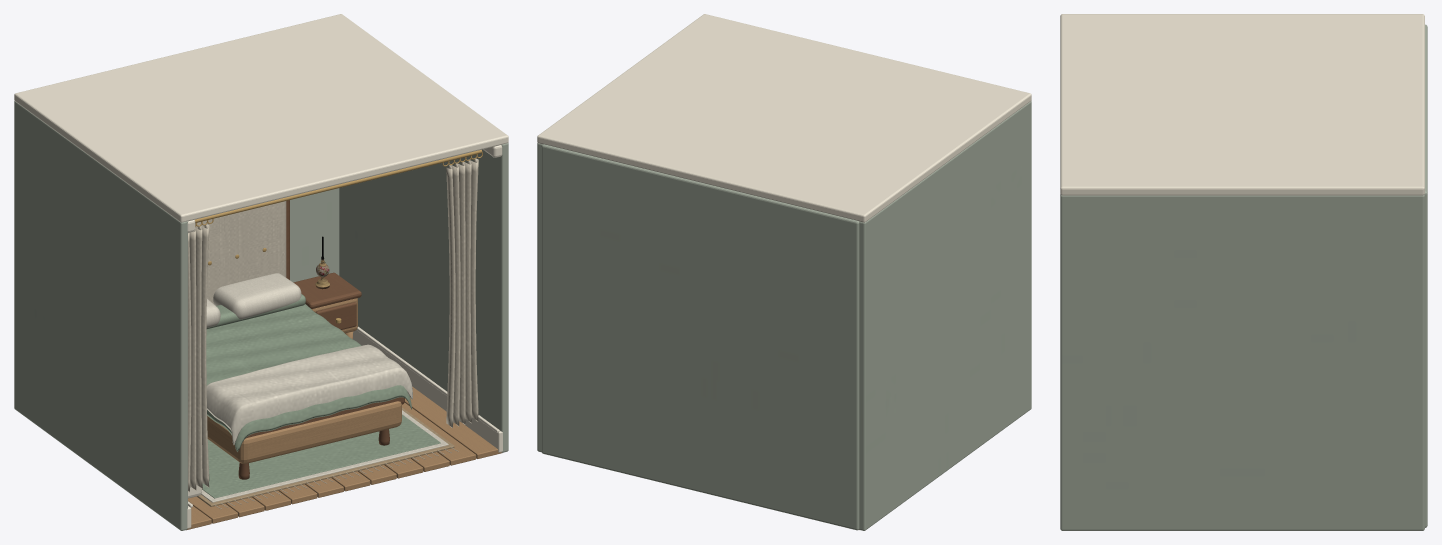
File: bedroom.glb
The picture shows the model from 3 angles, left to right: view 1: azimuth 30°, elevation 25°; view 2: azimuth 150°, elevation 25°; view 3: azimuth 270°, elevation 25°; orthographic projection. The views are drawn at different scales.
Visible parts, largest first — view 1: bedroom__Bedroom wall, bedroom__Painted cream, bedroom__Linen, bedroom__Sage textile, bedroom__Ivory textile, bedroom__Oak joinery, bedroom__Walnut, bedroom__Muted brass, bedroom__Rug braid; view 2: bedroom__Bedroom wall, bedroom__Painted cream; view 3: bedroom__Bedroom wall, bedroom__Painted cream.
Boxes of the visible parts, x1,y1,x2,y2 form: bedroom__Bedroom wall: (14,101,508,530); bedroom__Painted cream: (14,14,508,528); bedroom__Linen: (188,158,478,509); bedroom__Sage textile: (202,294,440,498); bedroom__Ivory textile: (201,273,448,502); bedroom__Oak joinery: (186,298,502,530); bedroom__Walnut: (238,200,404,479); bedroom__Muted brass: (195,150,482,323); bedroom__Rug braid: (197,407,454,506); bedroom__Bedroom wall: (537,101,1031,530); bedroom__Painted cream: (537,14,1031,222); bedroom__Bedroom wall: (1060,24,1427,530); bedroom__Painted cream: (1060,14,1424,195).
Bounding box in the file's own units: 3 × 2.76 × 2.67.
14 materials, 12 textured.
